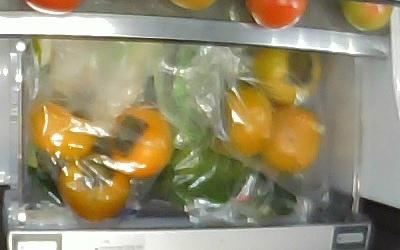persimmon_vinyl: (106, 101, 174, 178), (57, 151, 130, 221), (206, 82, 273, 158), (258, 105, 322, 173), (252, 47, 322, 109), (29, 101, 98, 161)
